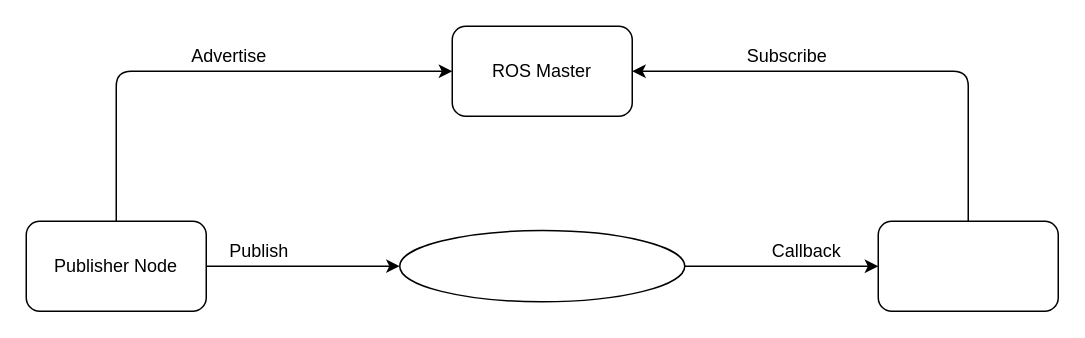
This 1085x338 diagram has some shape labels left out. The box of each missing label's shape, as (x1, y1, x2, y2) in pixels:
Subscriber Node: (877, 220, 1058, 311)
topic: /example msg_type: std_msgs/String: (398, 229, 685, 302)
